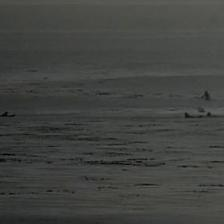surfer: (184, 112, 203, 119), (206, 111, 222, 118), (201, 91, 211, 99), (0, 112, 10, 118)
